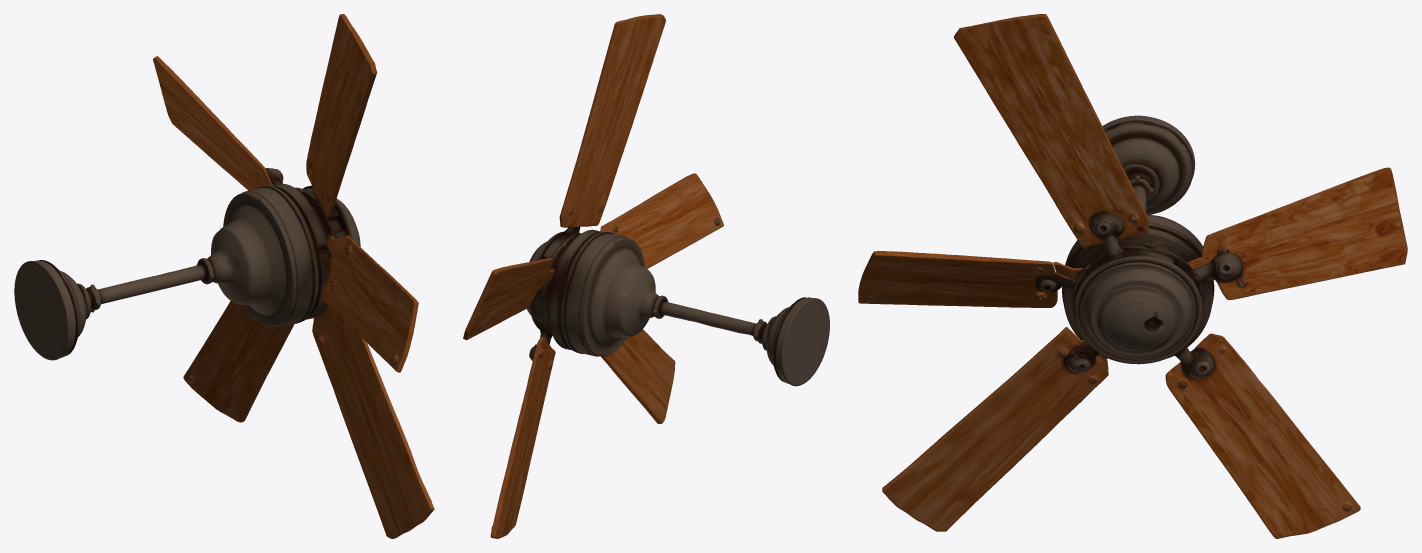
File: celling_fan.fbx
The picture shows the model from 3 angles, left to right: view 1: azimuth 30°, elevation 25°; view 2: azimuth 150°, elevation 25°; view 3: azimuth 270°, elevation 25°; orthographic projection. The views are drawn at different scales.
Visible parts, largest first — view 1: obj1; view 2: obj1; view 3: obj1.
Boxes of the visible parts, <box> form: obj1: <box>14,14,434,538</box>; obj1: <box>463,14,829,538</box>; obj1: <box>858,14,1407,538</box>.
Size of the model in its own units: 65.21 by 97.94 by 93.98.
1 material, 1 textured.
